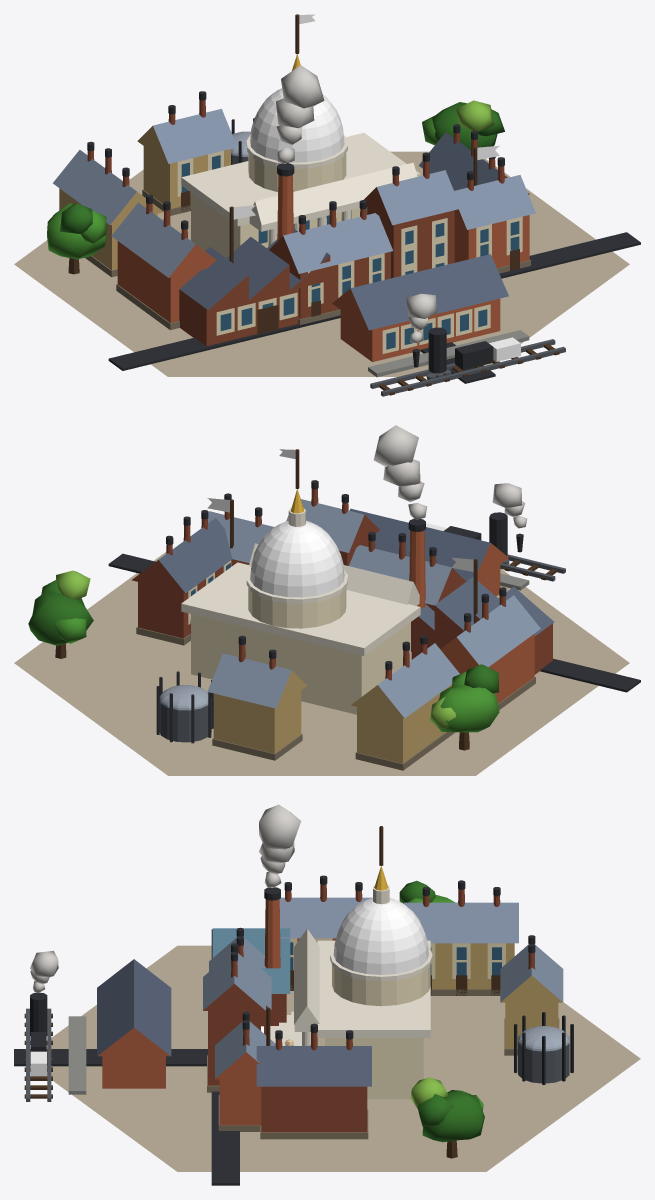
The model's file is capital_2_4.fbx.
3 views of the same model, one above another, from view 1: azimuth 30°, elevation 25°; view 2: azimuth 150°, elevation 25°; view 3: azimuth 270°, elevation 25° (orthographic).
Visible parts, largest first — view 1: capital_2_4; view 2: capital_2_4; view 3: capital_2_4.
Boxes of the visible parts, x1,y1,x2,y2 form: capital_2_4: (14, 14, 640, 396); capital_2_4: (14, 425, 640, 775); capital_2_4: (14, 804, 640, 1185).
Size of the model in its own units: 204 by 86.96 by 213.
